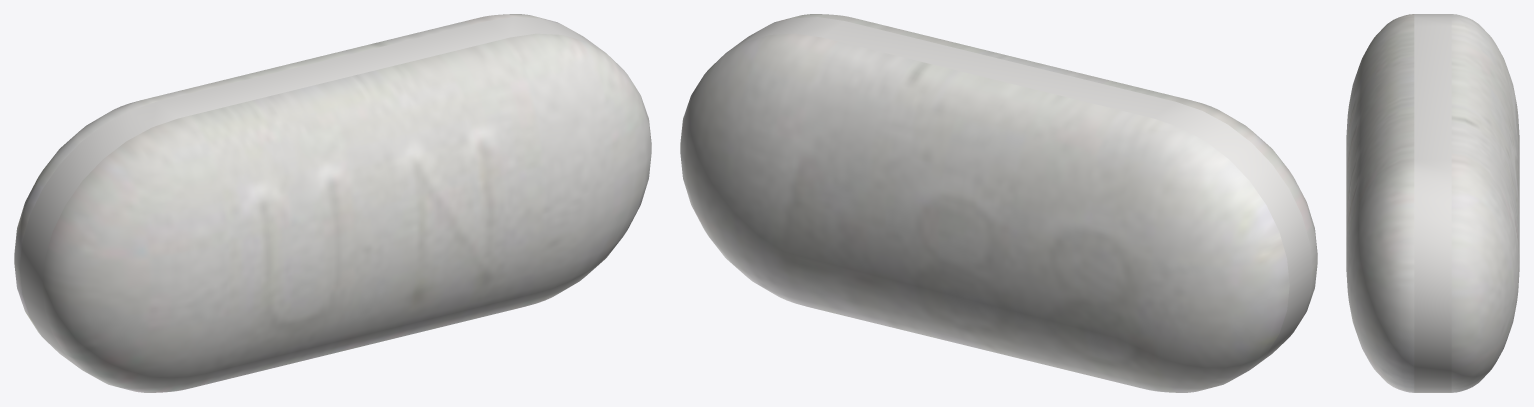
The model's file is 20140529GOPHDRGPT35798.fbx.
The picture shows the model from 3 angles, left to right: view 1: azimuth 30°, elevation 25°; view 2: azimuth 150°, elevation 25°; view 3: azimuth 270°, elevation 25°; orthographic projection. The views are drawn at different scales.
Parts seen in each view (by area): view 1: 球體.004; view 2: 球體.004; view 3: 球體.004.
Part boxes in pixels (x1,y1,x2,y2): 球體.004: (14,14,651,392); 球體.004: (680,14,1317,392); 球體.004: (1346,14,1519,392).
Bounding box in the file's own units: 0.9575 × 0.4054 × 0.2885.
Materials: 1 (1 with a texture image).
